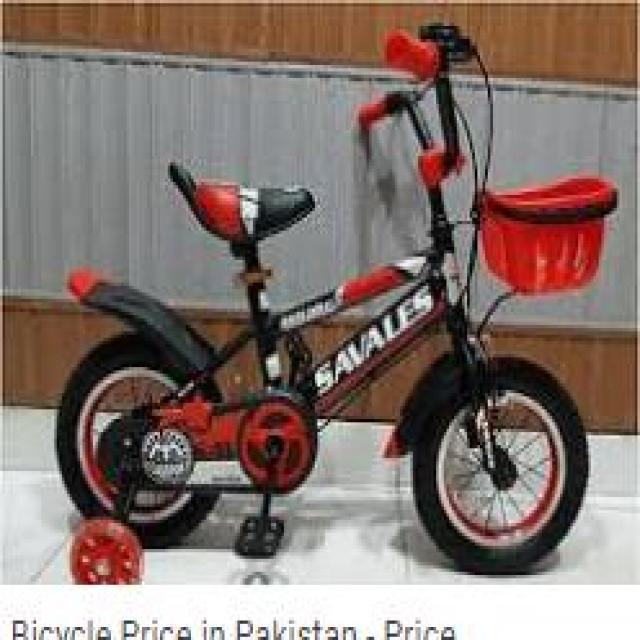bicycle: (40, 33, 605, 573)
